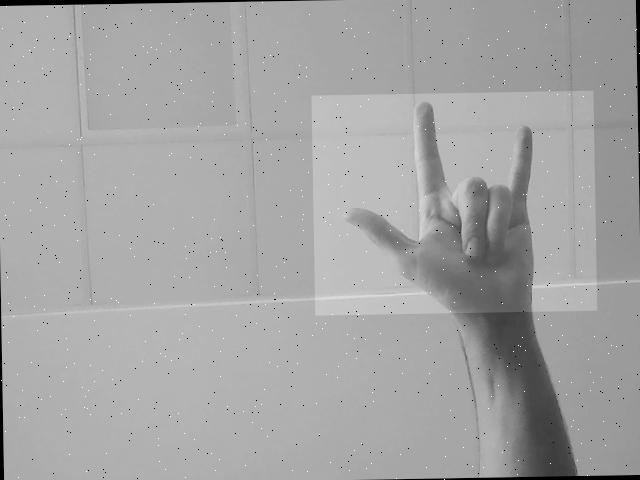I_Love_You: (312, 90, 598, 315)
